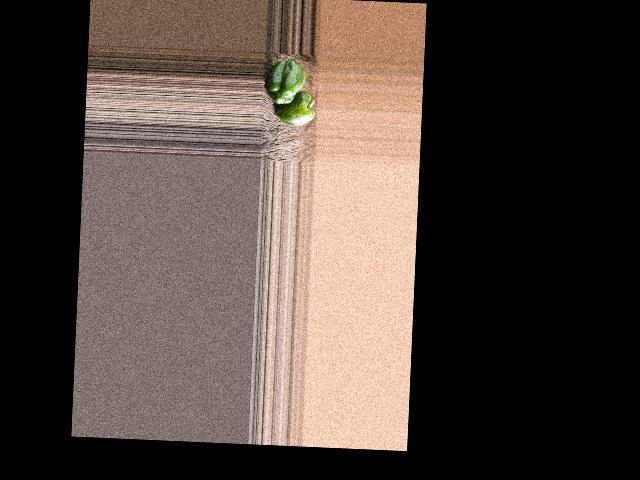bell_pepper: (267, 59, 307, 106)
